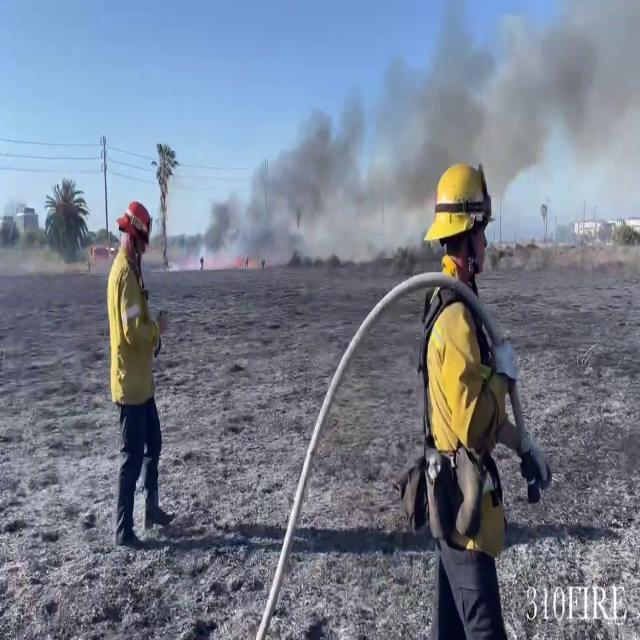Smoke: (404, 0, 640, 220), (192, 60, 419, 278)
